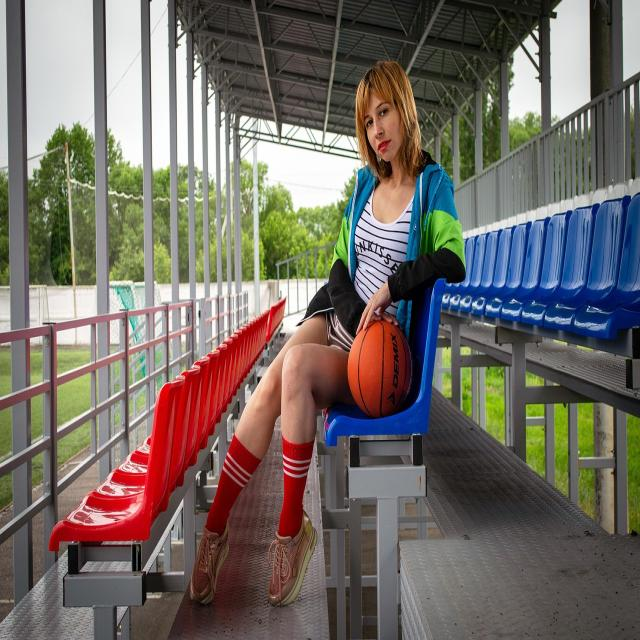Basketball: (348, 314, 412, 418)
